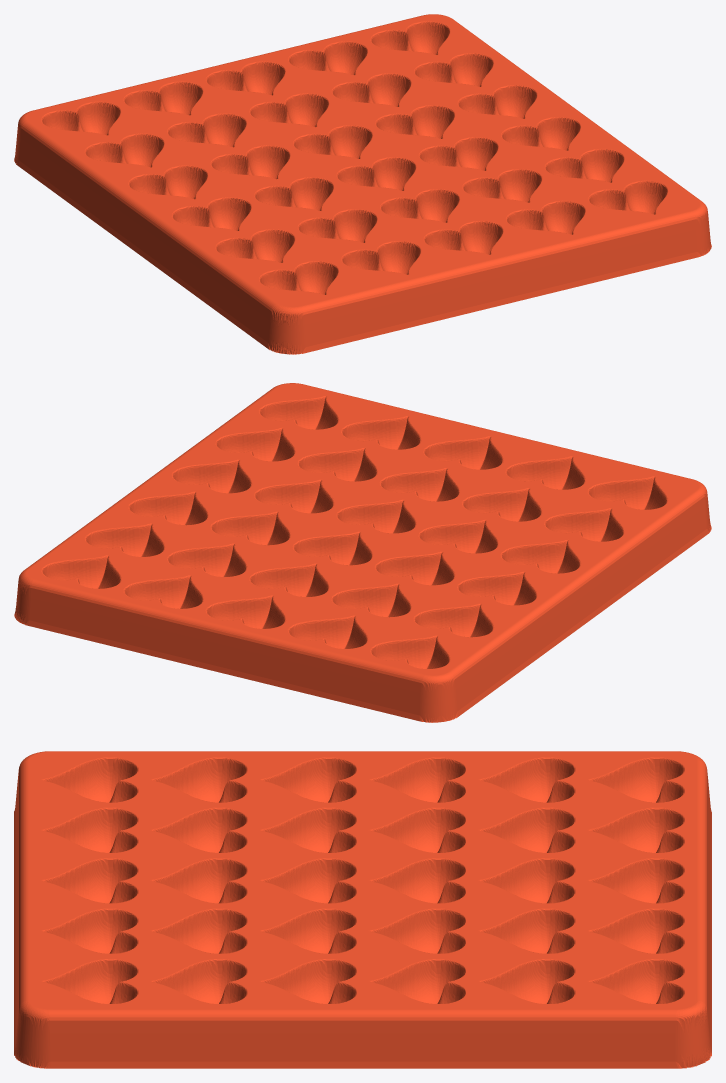
File: mold.glb
The picture shows the model from 3 angles, top to bottom: view 1: azimuth 30°, elevation 25°; view 2: azimuth 150°, elevation 25°; view 3: azimuth 270°, elevation 25°; orthographic projection. The views are drawn at different scales.
Visible parts, largest first — view 1: geometry_0; view 2: geometry_0; view 3: geometry_0.
Boxes of the visible parts, left/top/right/bottom form: geometry_0: left=14, top=14, right=711, bottom=354; geometry_0: left=14, top=383, right=711, bottom=722; geometry_0: left=14, top=751, right=711, bottom=1068.
Size of the model in its own units: 0.1578 by 0.0145 by 0.1726.
